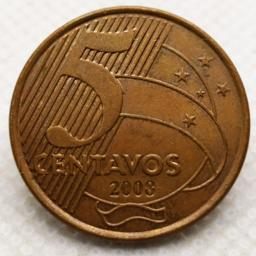5 cent: (7, 4, 251, 242)
